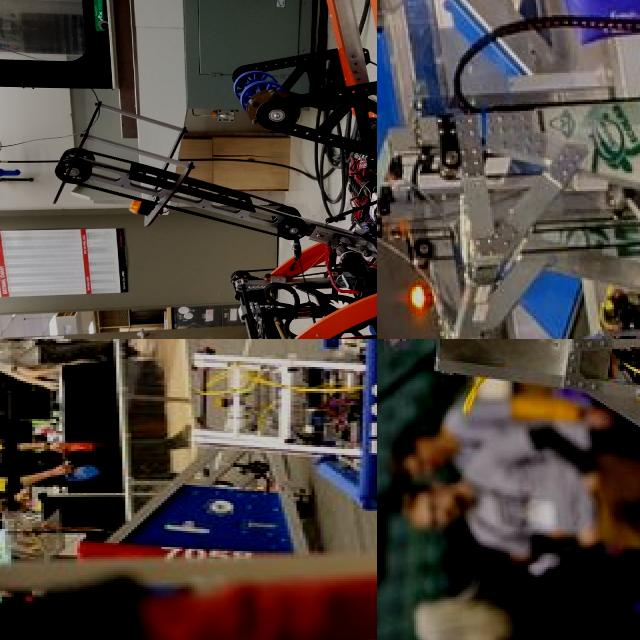FRC-Robots: (0, 0, 377, 339), (377, 0, 640, 339), (391, 339, 640, 640), (177, 339, 377, 513)
